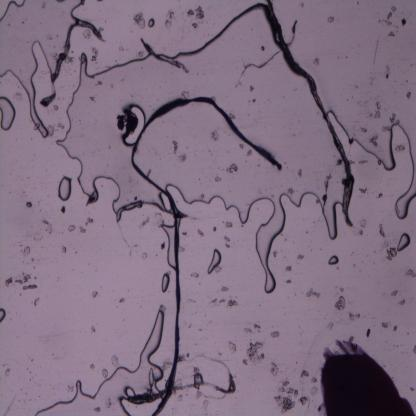Air bubble: (185, 168, 342, 294), (54, 42, 153, 224), (35, 311, 164, 416), (0, 0, 67, 138), (352, 116, 416, 222), (120, 102, 146, 148), (158, 221, 176, 270), (0, 94, 17, 131), (58, 175, 73, 202), (207, 248, 222, 275), (396, 232, 411, 252), (160, 273, 172, 294), (193, 372, 205, 384), (328, 255, 339, 266), (147, 16, 156, 29), (0, 306, 6, 324), (25, 202, 33, 208)
Background material: (273, 375, 314, 416), (379, 6, 411, 40), (323, 158, 342, 207), (247, 340, 266, 366), (133, 9, 146, 30), (164, 7, 176, 29), (13, 272, 30, 286), (305, 286, 322, 299), (335, 295, 347, 310), (386, 246, 397, 262), (347, 310, 360, 322), (226, 298, 240, 309), (194, 6, 205, 20), (90, 44, 98, 63), (209, 127, 219, 141), (228, 339, 237, 354), (43, 219, 52, 234), (46, 125, 56, 138), (405, 267, 416, 278), (394, 143, 405, 154), (378, 223, 386, 238), (271, 361, 279, 376), (110, 354, 118, 368), (229, 163, 239, 174), (4, 276, 13, 288), (381, 124, 393, 133), (22, 284, 37, 291), (103, 396, 111, 409), (2, 367, 12, 377), (252, 324, 262, 334), (136, 48, 146, 58), (270, 329, 281, 338), (22, 245, 31, 256), (101, 368, 109, 380), (182, 88, 190, 100), (83, 28, 92, 38), (312, 56, 321, 66), (64, 56, 75, 64), (84, 217, 95, 225), (172, 140, 178, 154), (389, 112, 396, 124), (384, 65, 390, 79), (178, 153, 187, 162), (380, 320, 390, 328), (220, 285, 230, 293), (186, 297, 196, 305), (359, 218, 367, 228), (300, 370, 310, 378), (186, 8, 194, 18), (358, 186, 368, 194), (373, 110, 381, 120), (310, 386, 318, 396), (389, 289, 398, 297), (328, 322, 334, 334), (213, 176, 222, 184), (66, 383, 74, 392), (90, 289, 98, 298), (196, 228, 204, 237), (78, 225, 86, 234), (68, 224, 76, 233), (190, 271, 200, 278), (203, 399, 209, 410), (34, 296, 40, 307), (194, 391, 202, 399), (92, 406, 100, 414), (178, 352, 186, 360), (310, 376, 318, 384), (357, 228, 365, 236), (118, 43, 125, 52), (248, 83, 255, 92), (229, 111, 236, 120), (359, 126, 368, 133), (358, 159, 368, 165), (246, 149, 253, 157), (327, 16, 335, 23), (398, 299, 405, 307), (176, 394, 184, 401), (198, 193, 206, 200), (244, 327, 252, 334), (297, 253, 304, 261), (297, 168, 303, 177), (40, 0, 46, 9), (376, 101, 382, 110), (61, 244, 66, 254), (223, 235, 230, 242), (242, 358, 249, 365), (88, 363, 94, 371), (225, 221, 233, 227), (192, 22, 198, 30), (392, 324, 398, 332), (90, 94, 96, 102), (60, 206, 66, 214), (286, 264, 292, 272), (90, 324, 95, 333), (46, 34, 53, 40), (210, 298, 217, 304), (119, 296, 126, 302), (178, 245, 184, 252), (119, 76, 126, 82), (288, 187, 295, 193), (406, 92, 412, 99), (52, 104, 58, 111), (218, 298, 226, 303), (348, 159, 356, 164), (366, 328, 370, 338), (412, 345, 416, 354), (239, 144, 245, 150), (52, 52, 58, 58), (58, 122, 64, 128), (97, 81, 103, 87), (286, 278, 292, 284), (261, 44, 265, 52), (315, 198, 320, 204), (250, 97, 256, 102), (182, 230, 187, 236), (273, 250, 278, 256), (368, 113, 374, 118), (211, 226, 216, 231), (226, 243, 231, 248), (339, 287, 344, 292), (378, 194, 383, 199), (300, 1, 304, 7), (377, 160, 381, 166), (21, 20, 25, 26), (95, 0, 102, 3), (350, 252, 354, 257), (186, 353, 190, 358), (352, 263, 356, 268), (410, 387, 414, 392), (218, 352, 221, 358), (30, 358, 34, 362), (410, 63, 414, 67), (111, 83, 114, 88), (189, 323, 192, 328), (75, 250, 78, 254), (57, 276, 59, 282), (312, 221, 316, 224), (292, 240, 295, 244), (356, 1, 359, 5), (355, 85, 358, 89), (29, 370, 32, 374), (305, 231, 309, 234), (34, 276, 37, 280), (33, 265, 35, 270), (337, 266, 339, 271), (25, 392, 28, 395), (38, 395, 41, 398), (337, 56, 340, 59), (346, 99, 349, 102), (392, 344, 395, 347), (26, 367, 29, 370), (384, 364, 386, 368), (32, 258, 34, 262), (406, 79, 408, 83), (346, 55, 348, 59), (296, 361, 298, 365), (18, 399, 20, 402), (401, 351, 403, 354), (320, 248, 322, 251), (283, 255, 285, 258), (34, 381, 36, 384), (285, 237, 287, 240), (2, 364, 4, 367), (394, 80, 397, 82), (310, 248, 312, 251), (1, 393, 3, 396), (366, 254, 368, 257), (407, 332, 409, 335), (20, 293, 22, 296), (52, 354, 54, 356), (20, 244, 22, 246), (29, 379, 31, 381), (406, 385, 408, 387), (378, 95, 380, 97), (396, 345, 398, 347), (30, 399, 32, 401), (17, 361, 18, 364), (20, 389, 23, 390), (370, 98, 372, 99), (300, 333, 301, 335), (35, 374, 36, 376), (21, 250, 22, 251)
Cellulose filter fibre: (268, 2, 352, 228), (39, 19, 104, 110), (122, 364, 236, 405), (236, 20, 298, 88), (136, 34, 189, 73)
Cotton: (130, 96, 285, 416)
Diatom: (86, 190, 96, 206)
Pen: (319, 336, 415, 416)
